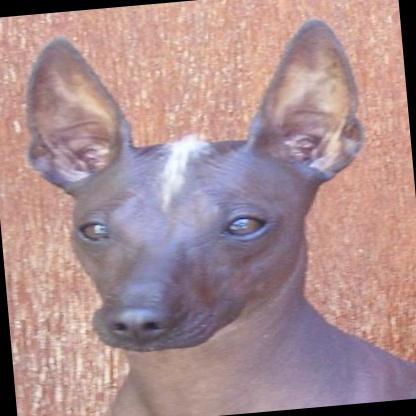Mexican_hairless: (14, 5, 416, 416)
